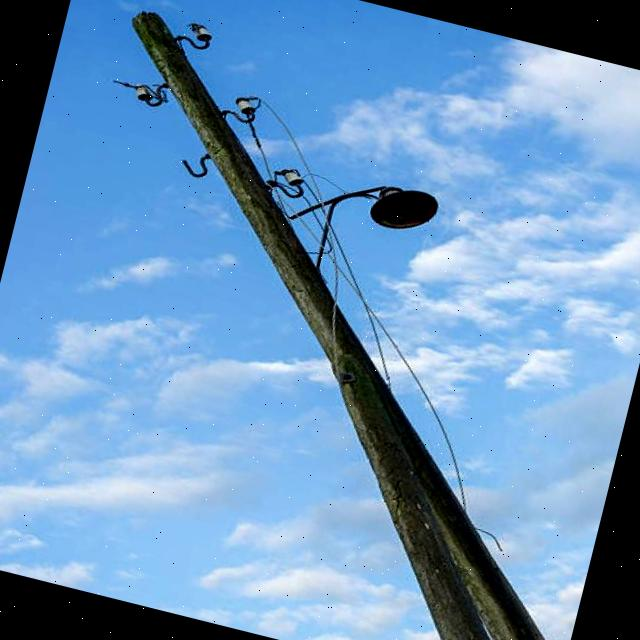Broken Pole: (324, 353, 499, 640)
